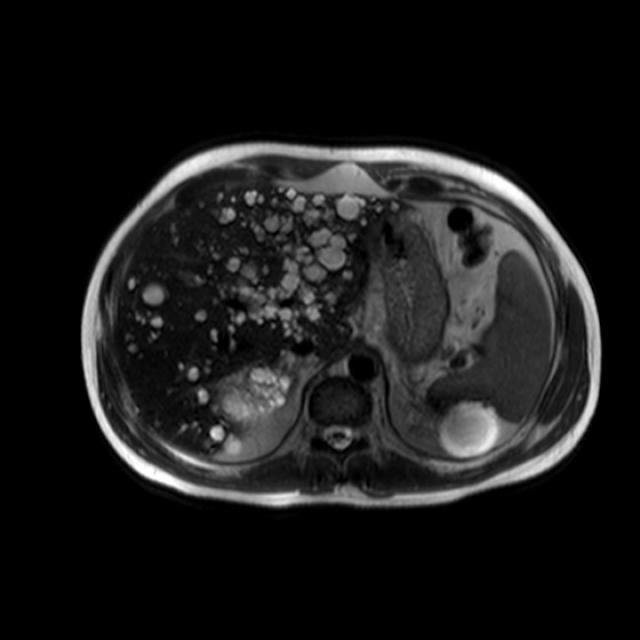sag: (216, 358, 301, 424)
sol: (407, 400, 499, 456)
